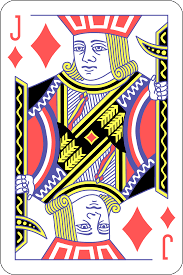jack of diamonds: (3, 6, 181, 269)
